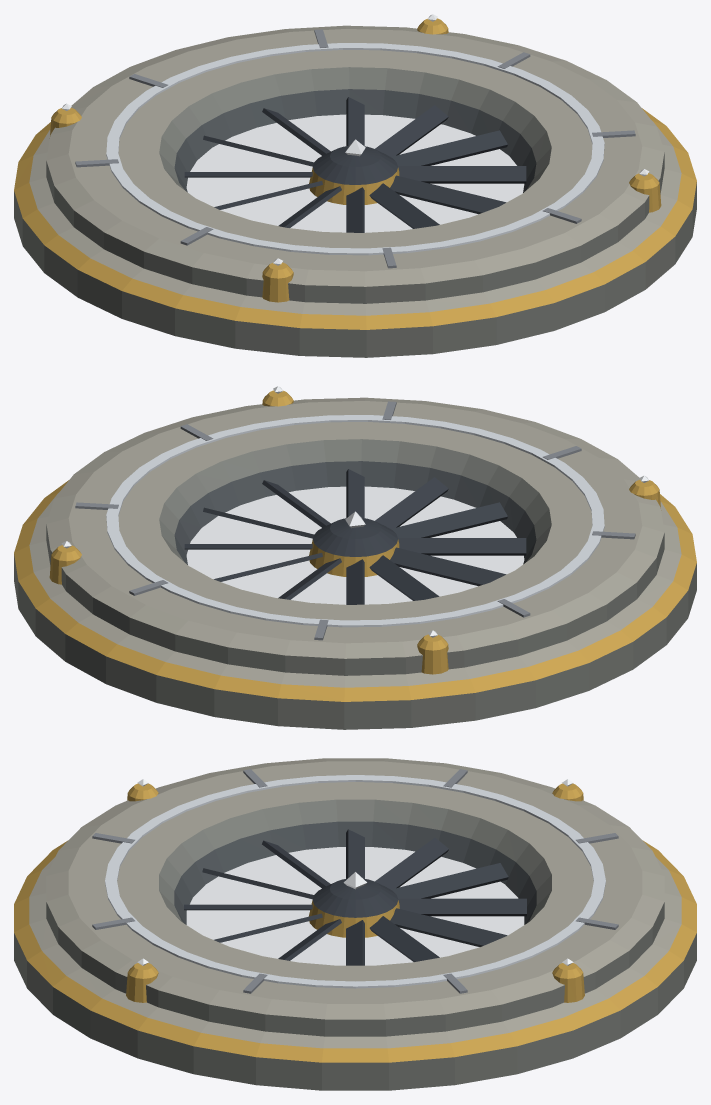
Rendered from SkywardVentPad.obj.
3 renders of one model, top to bottom at view 1: azimuth 30°, elevation 25°; view 2: azimuth 150°, elevation 25°; view 3: azimuth 270°, elevation 25°, orthographic.
Bounding box in the file's own units: 7.96 × 1 × 7.96.
